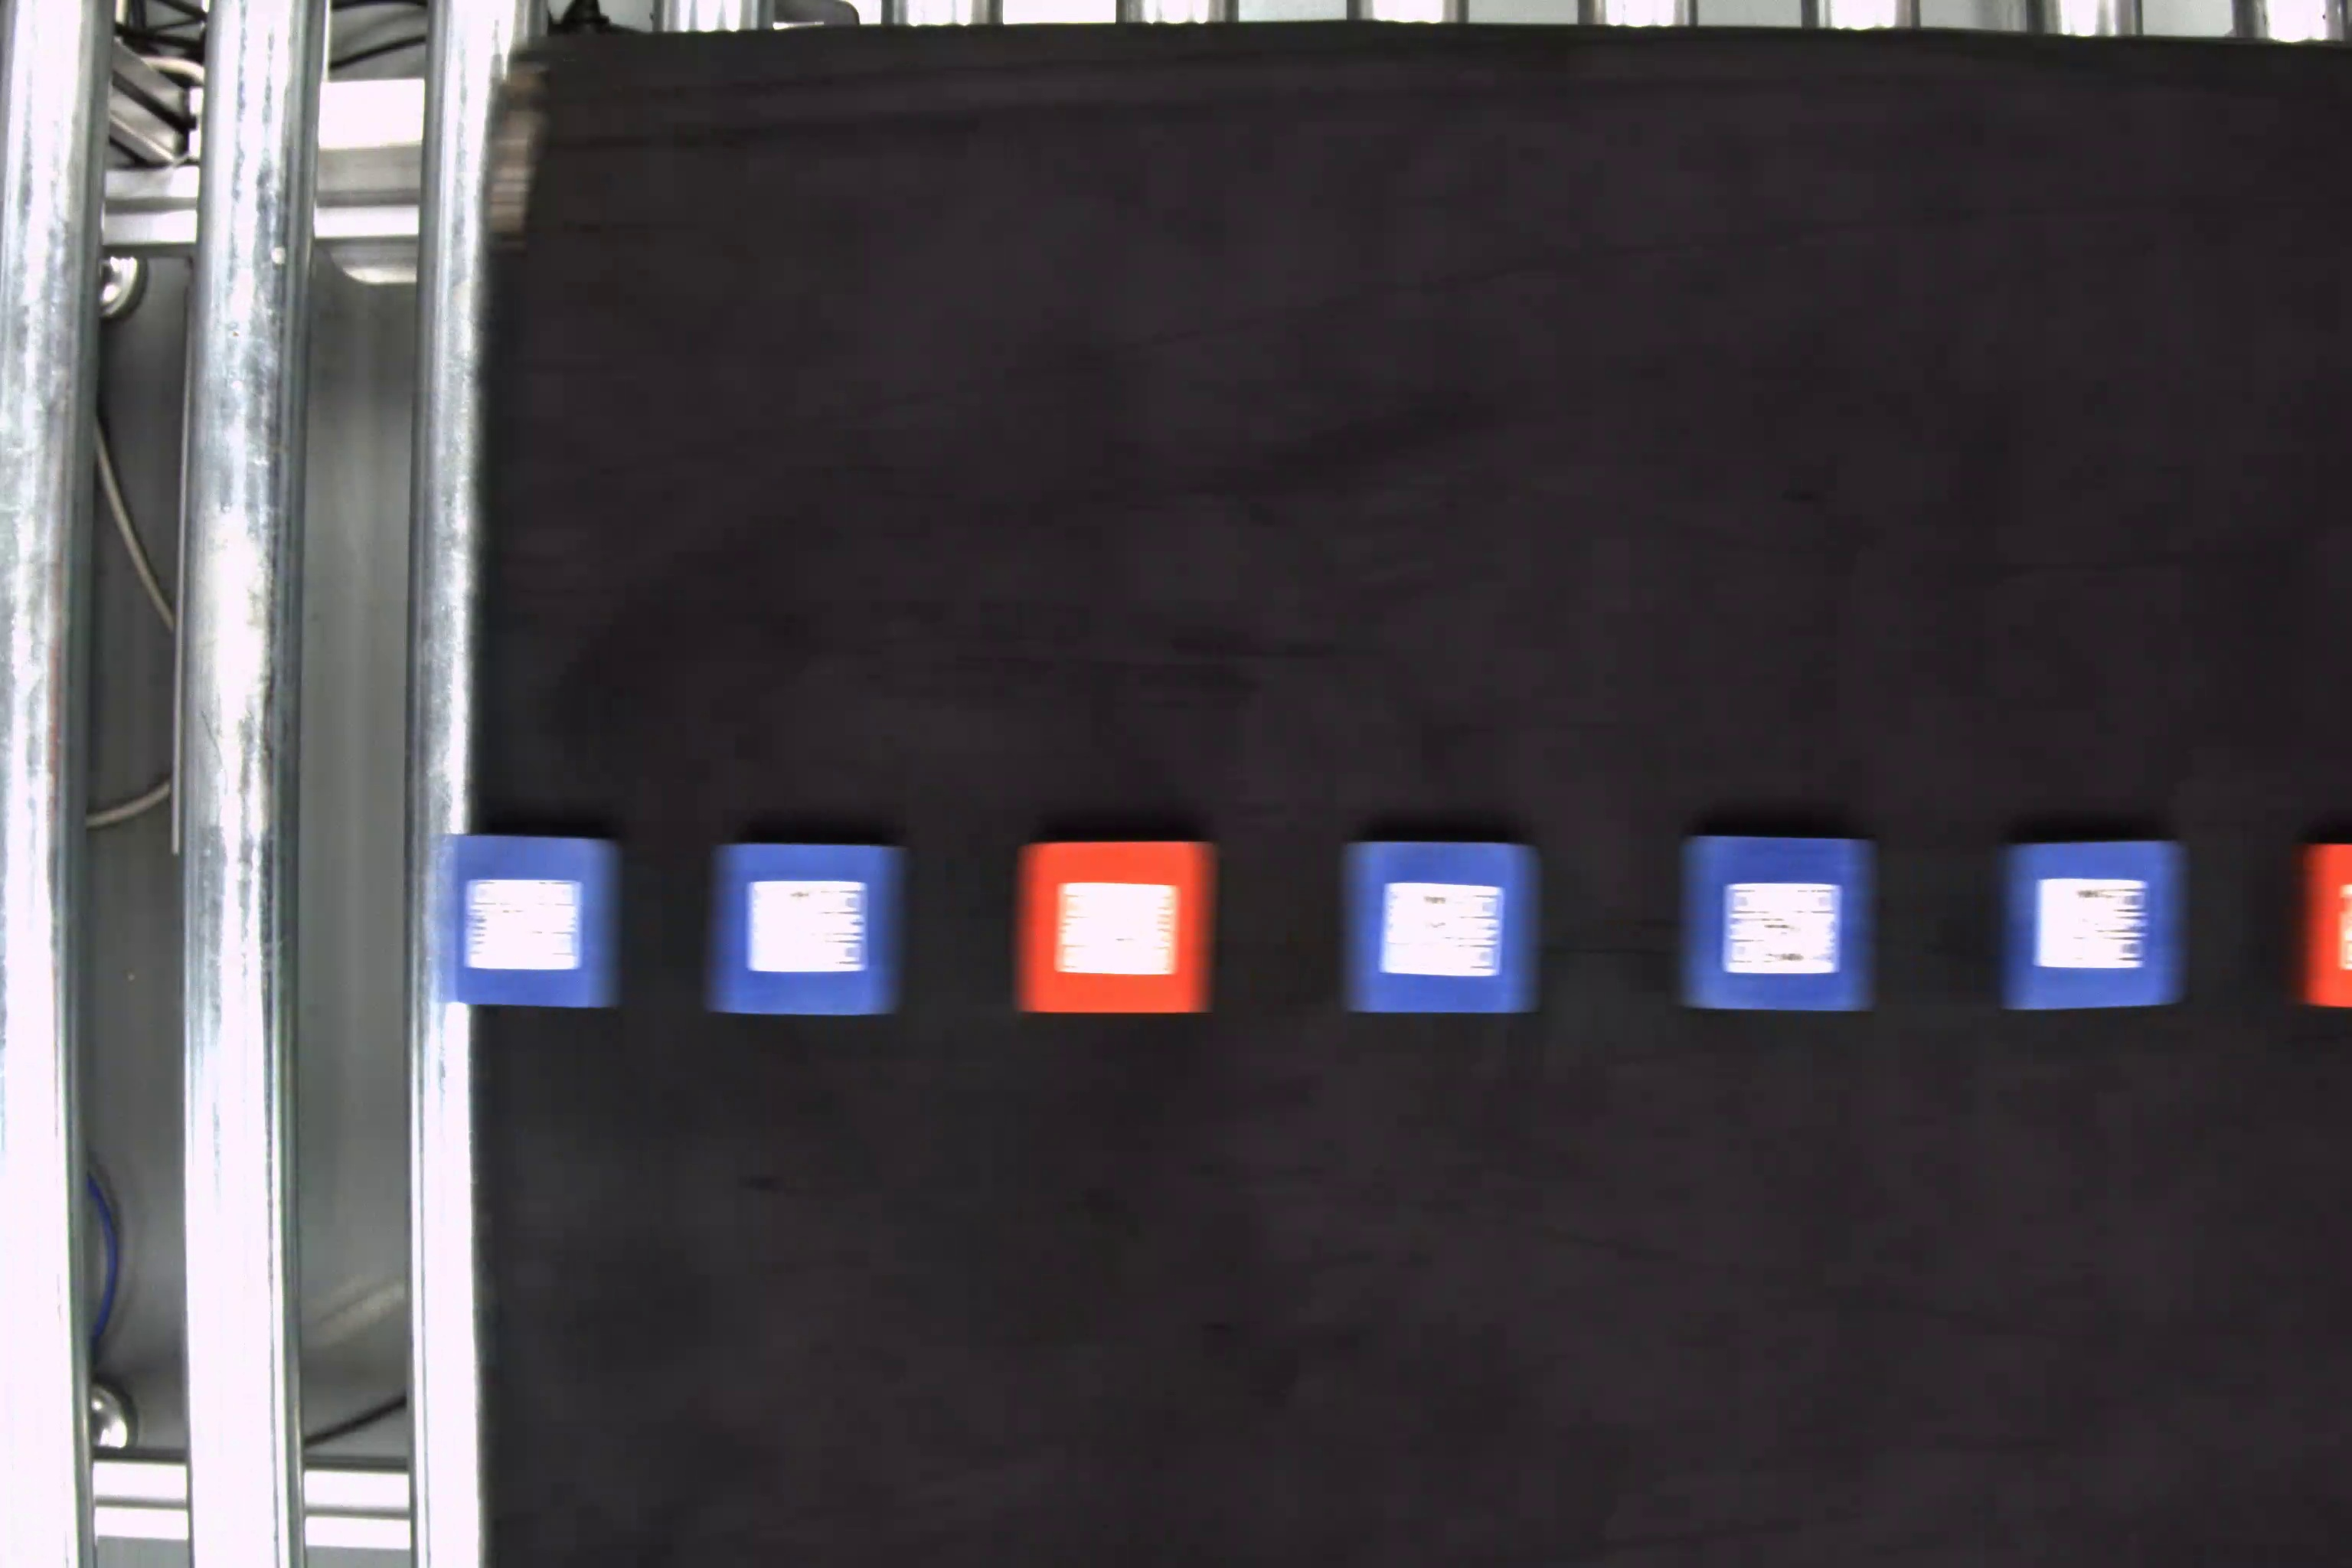wood: (1680, 835, 1879, 1015), (1015, 842, 1218, 1015), (1339, 836, 1542, 1008), (2000, 842, 2187, 1022), (712, 840, 903, 1017), (444, 833, 623, 1011), (2298, 836, 2352, 1013)
